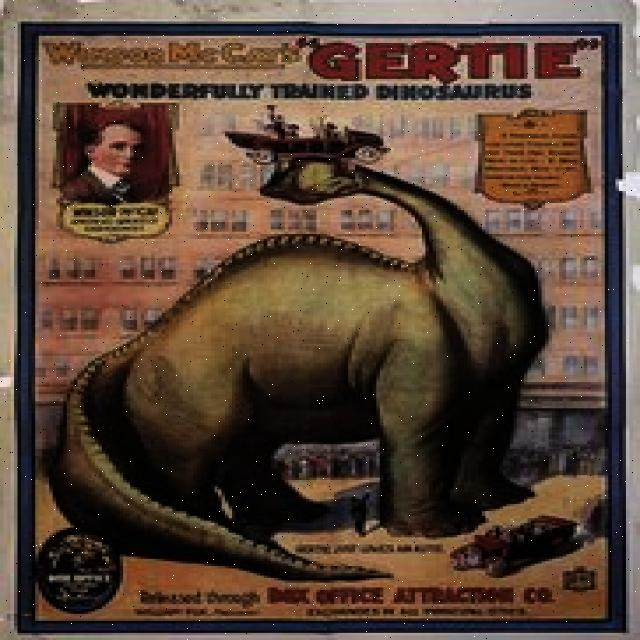movie-judul: (41, 38, 602, 104)
picture: (51, 117, 574, 586), (50, 104, 183, 199)
